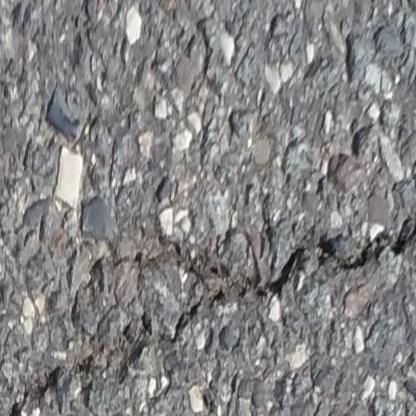Cracks: (67, 173, 416, 383), (0, 349, 101, 416)
